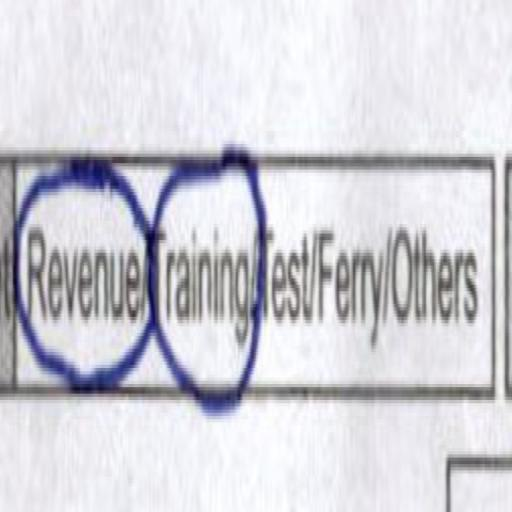check: (148, 93, 268, 493), (28, 131, 150, 493)
